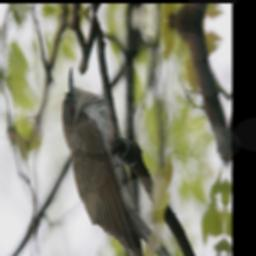Cuckoo: (56, 67, 204, 256)
